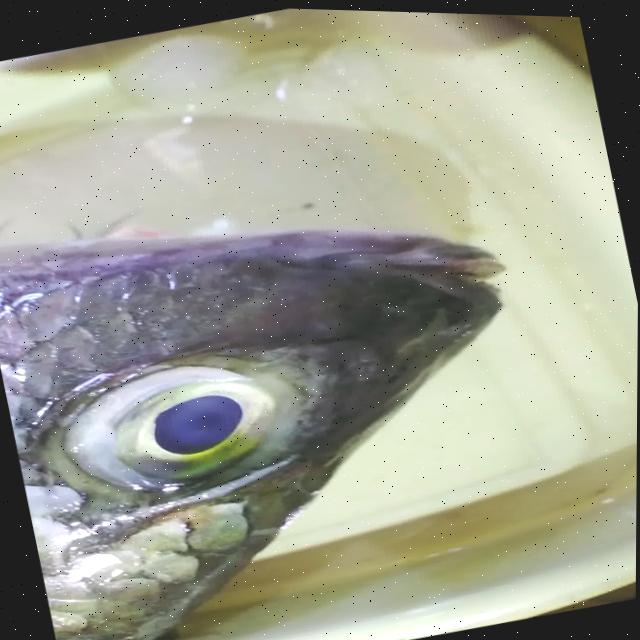Fresh: (40, 329, 307, 515)
